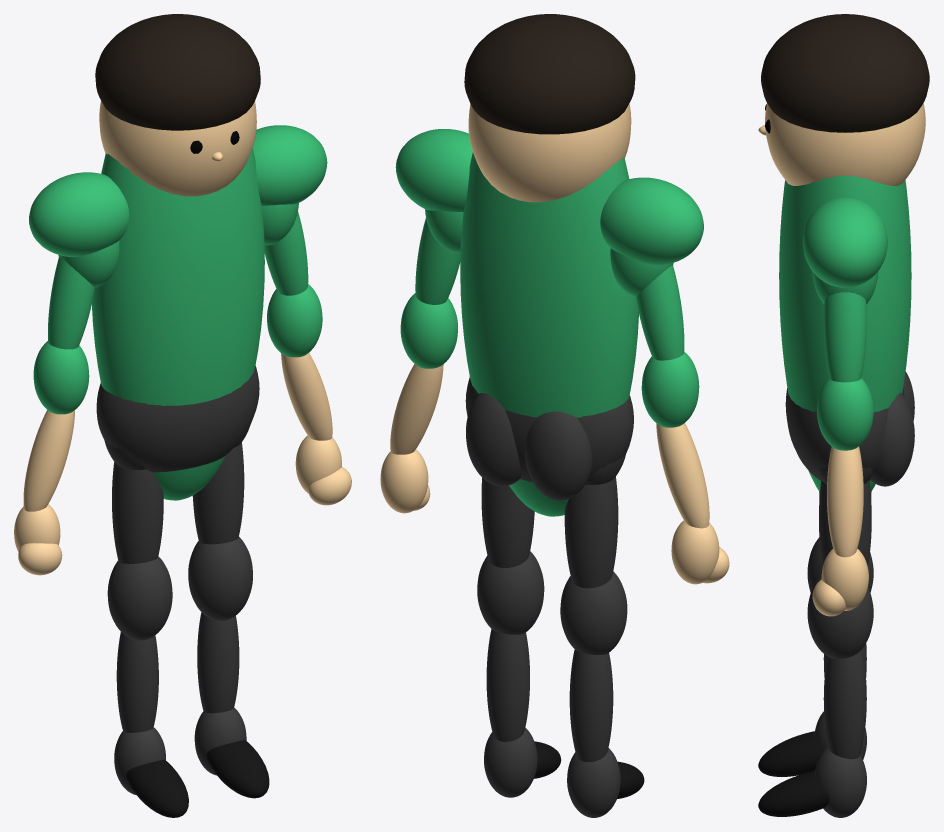
File: ellipsoid-character.glb
3 renders of one model, left to right at view 1: azimuth 30°, elevation 25°; view 2: azimuth 150°, elevation 25°; view 3: azimuth 270°, elevation 25°, orthographic. The views are drawn at different scales.
Parts seen in each view (by area): view 1: torso, hair, hips, head, rightShoulder, leftShoulder, rightUpperLeg, rightKnee, leftKnee, leftLowerLeg, rightLowerLeg, leftUpperLeg (+16 smaller); view 2: torso, hair, head, rightShoulder, leftShoulder, rightUpperLeg, rightButtock, rightLowerLeg, leftLowerLeg, leftKnee, rightKnee, leftButtock (+16 smaller); view 3: torso, hair, head, leftShoulder, leftLowerLeg, leftLowerArm, leftUpperArm, leftElbow, hips, leftKnee, leftAnkle, leftButtock (+8 smaller).
Part boxes in pixels (x1,y1,x2,y2): torso: (91, 148, 264, 500); hair: (95, 14, 260, 130); hips: (96, 366, 259, 472); head: (99, 101, 256, 196); rightShoulder: (29, 172, 129, 256); leftShoulder: (252, 125, 327, 205); rightUpperLeg: (112, 462, 163, 563); rightKnee: (107, 556, 172, 640); leftKnee: (188, 537, 252, 620); leftLowerLeg: (197, 612, 239, 713); rightLowerLeg: (116, 632, 158, 732); leftUpperLeg: (192, 442, 244, 544); torso: (460, 152, 638, 516); hair: (464, 14, 635, 134); head: (468, 103, 631, 202); rightShoulder: (600, 177, 703, 265); leftShoulder: (395, 129, 472, 211); rightUpperLeg: (564, 476, 618, 588); rightButtock: (524, 411, 592, 500); rightLowerLeg: (569, 649, 613, 762); leftLowerLeg: (486, 629, 529, 741); leftKnee: (477, 551, 544, 634); rightKnee: (560, 571, 627, 654); leftButtock: (466, 393, 521, 486); torso: (779, 176, 911, 491); hair: (761, 14, 929, 132); head: (765, 103, 925, 185); leftShoulder: (802, 197, 887, 287); leftLowerLeg: (823, 649, 866, 759); leftLowerArm: (827, 446, 863, 557); leftUpperArm: (823, 292, 866, 382); leftElbow: (817, 378, 873, 450); hips: (785, 388, 904, 480); leftKnee: (807, 575, 873, 659); leftAnkle: (814, 747, 866, 817); leftButtock: (870, 393, 914, 486).
Bounding box in the file's own units: 2.25 × 4.95 × 0.9973.
